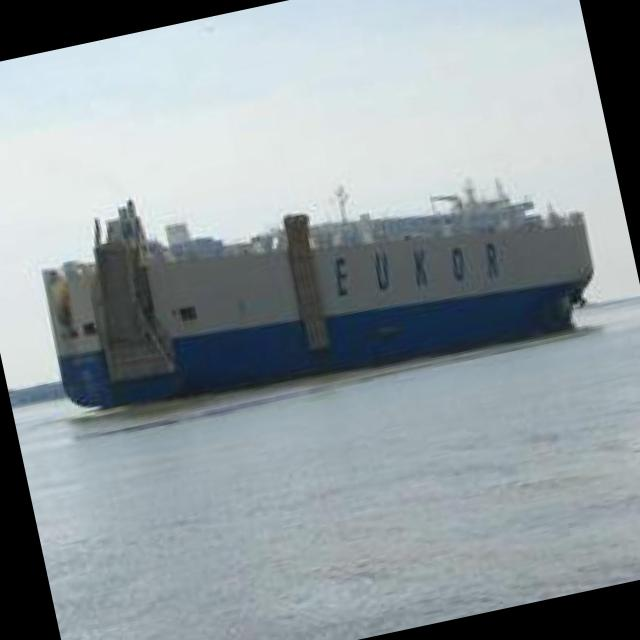boat: (9, 126, 608, 442)
